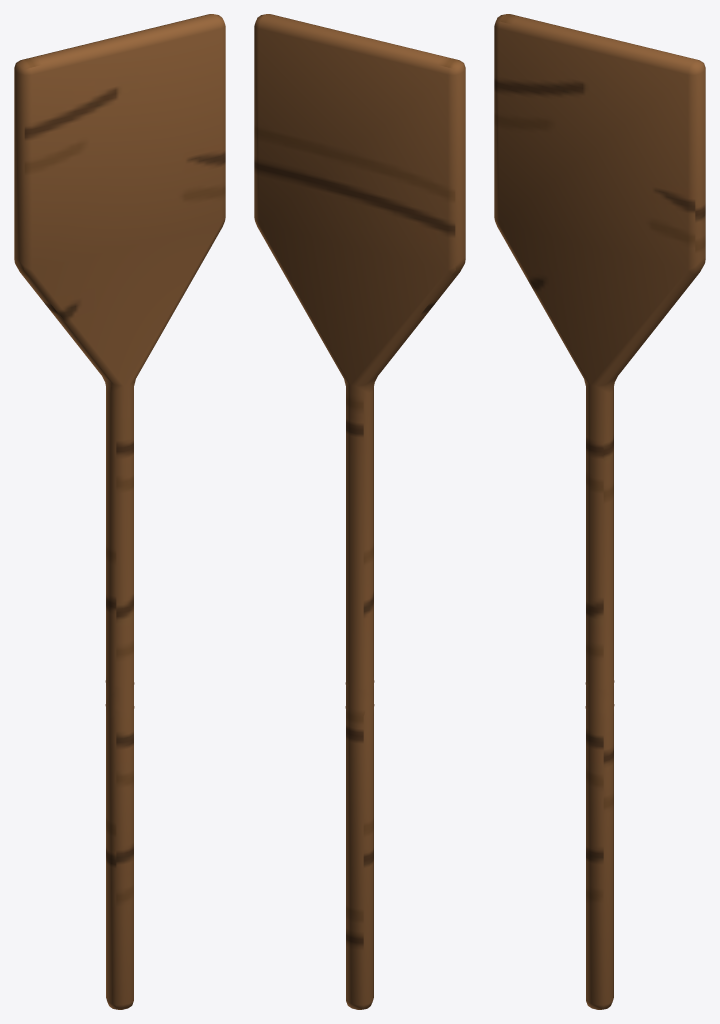
The model's file is item-paddle.glb.
3 views of the same model, side by side, from view 1: azimuth 30°, elevation 25°; view 2: azimuth 150°, elevation 25°; view 3: azimuth 330°, elevation 25° (orthographic).
Size of the model in its own units: 3.22 by 14.45 by 0.3548.
Materials: 1 (1 with a texture image).
